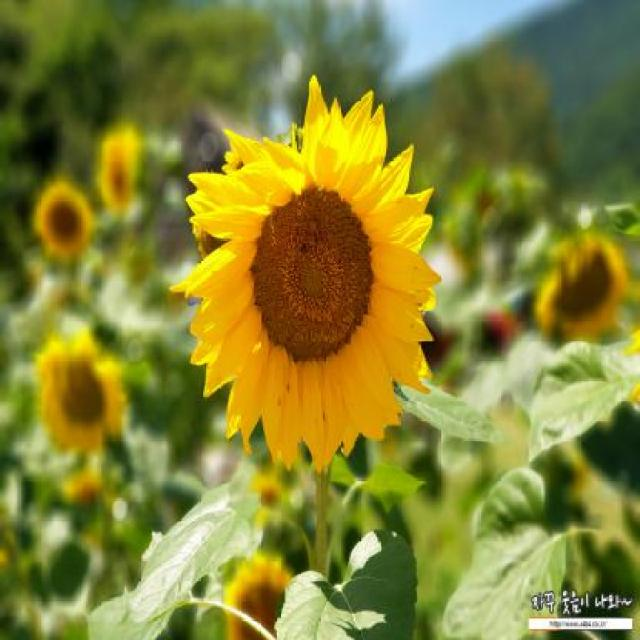sunflower: (169, 76, 450, 467)
